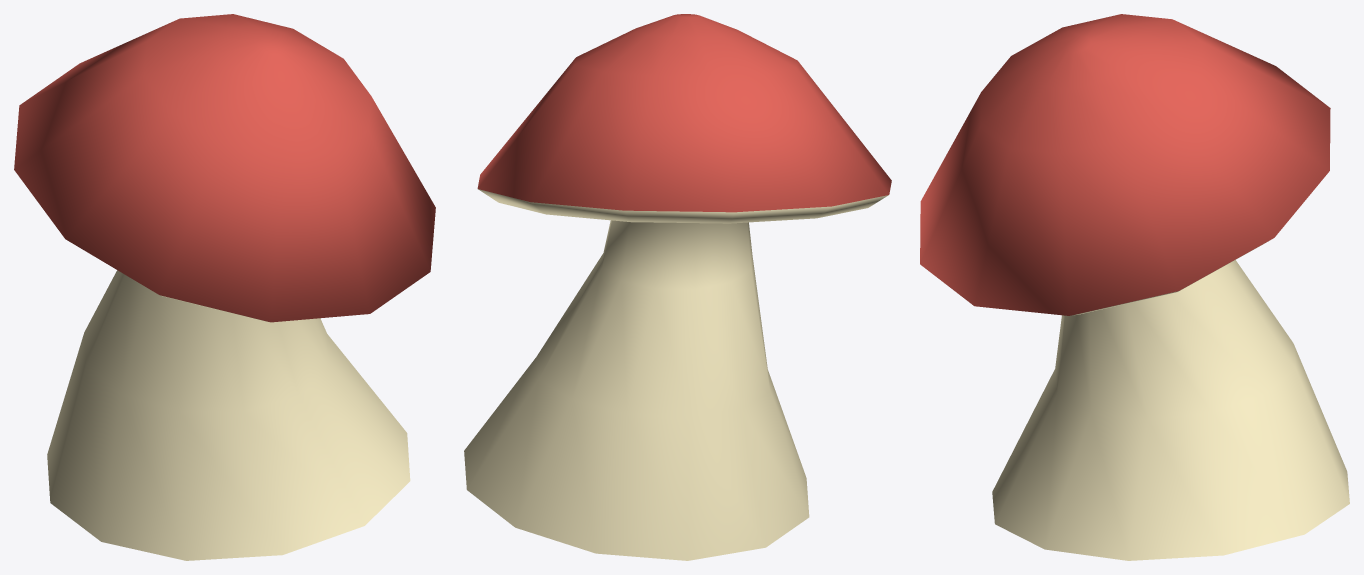
File: lowPolyTiles_mushroom02.fbx
The picture shows the model from 3 angles, left to right: view 1: azimuth 30°, elevation 25°; view 2: azimuth 150°, elevation 25°; view 3: azimuth 270°, elevation 25°; orthographic projection. The views are drawn at different scales.
Parts seen in each view (by area): view 1: mushroom02; view 2: mushroom02; view 3: mushroom02.
Part boxes in pixels (bbox=[...]): mushroom02: bbox=[14, 14, 435, 560]; mushroom02: bbox=[464, 14, 891, 560]; mushroom02: bbox=[920, 14, 1349, 560].
Bounding box in the file's own units: 18.9 × 23.08 × 19.09.
